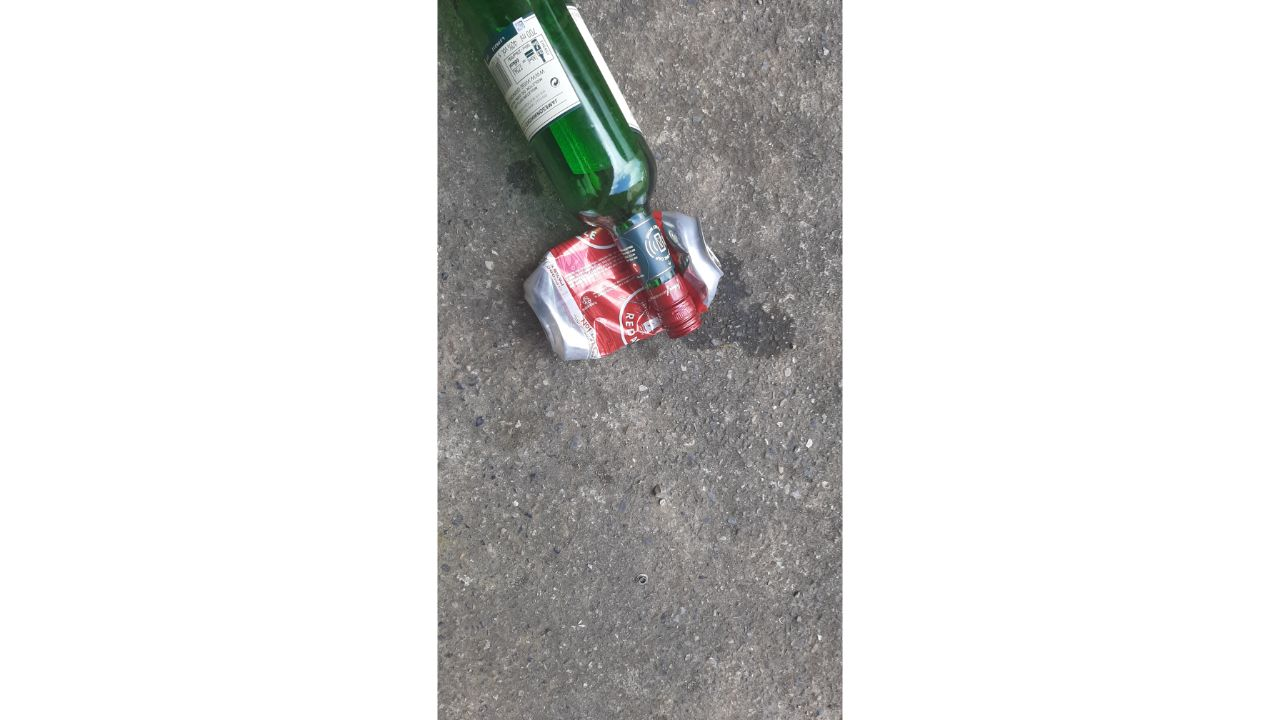Can: (515, 201, 733, 377)
